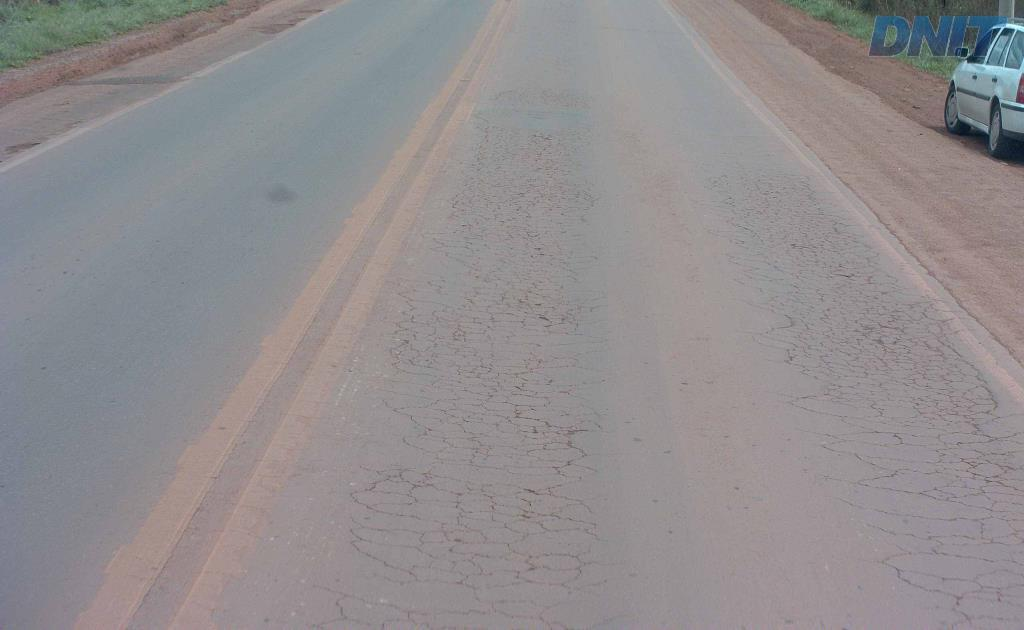crack: (813, 299, 1023, 507), (430, 480, 599, 595), (492, 395, 598, 478), (876, 556, 974, 629), (507, 483, 594, 534), (487, 351, 554, 411), (349, 528, 421, 582), (508, 282, 584, 332), (360, 463, 447, 505), (451, 421, 507, 472), (447, 544, 496, 602), (825, 263, 879, 304), (970, 499, 1017, 546), (971, 573, 1019, 604), (789, 231, 841, 257)
